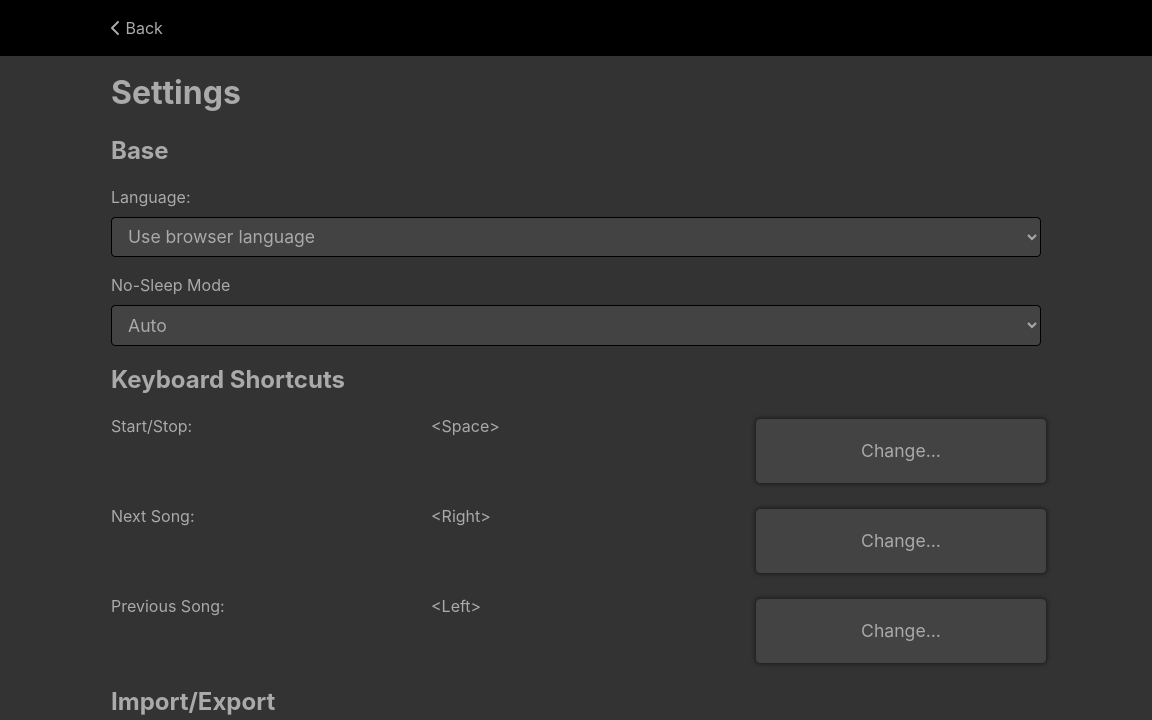
Scenario: saves shortcut settings
Click the button "Change..." in the row of "<Space>". click: (901, 451)
box: [756,419,1046,483]
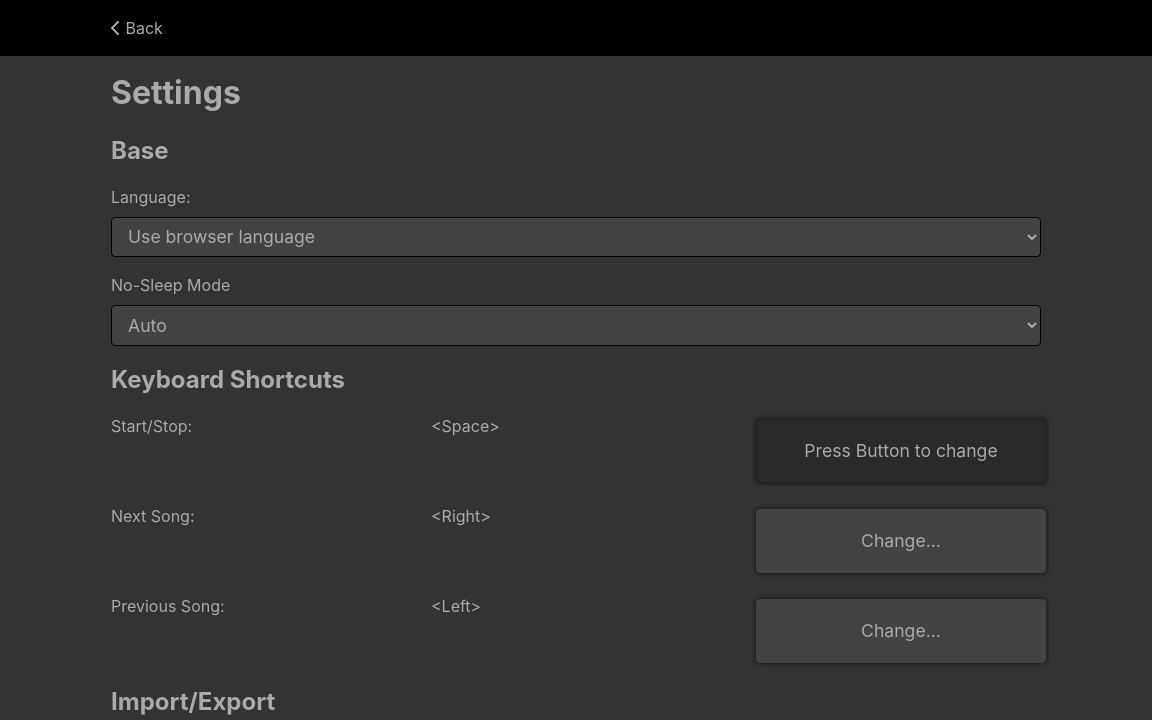
Now the button "Press Button to change" is shown, box [756,419,1046,483]
Press x
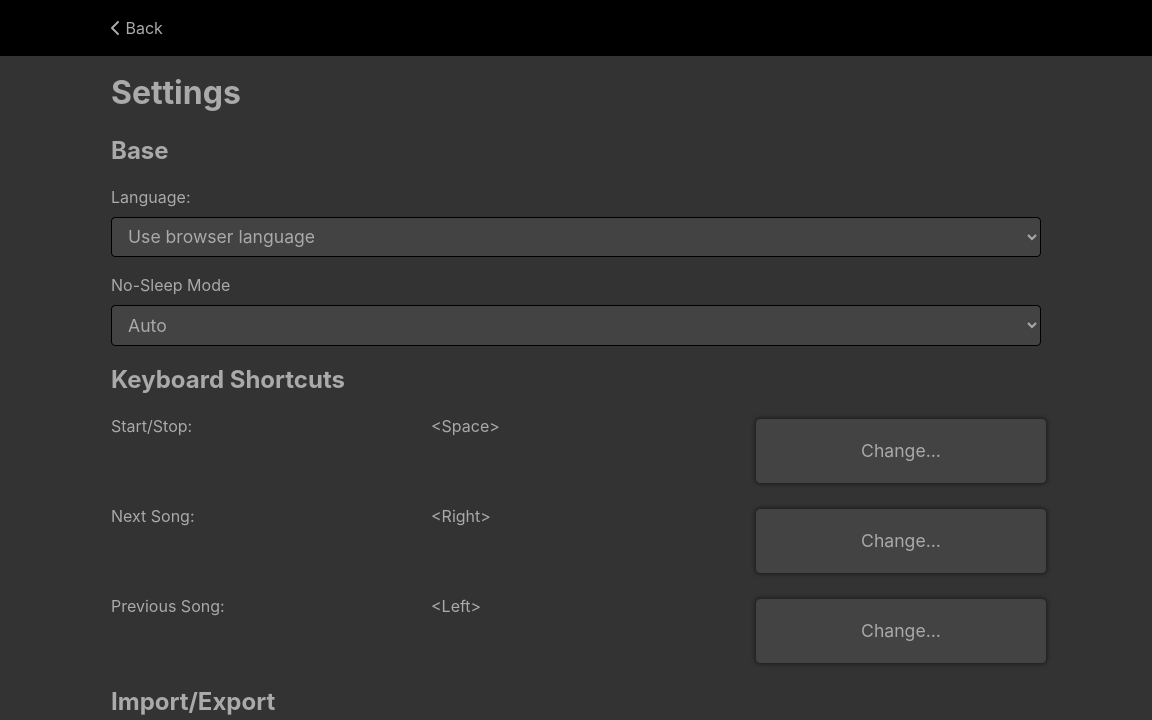
Now the button "Change..." in the row of "<Space>" is shown, box [756,419,1046,483]
